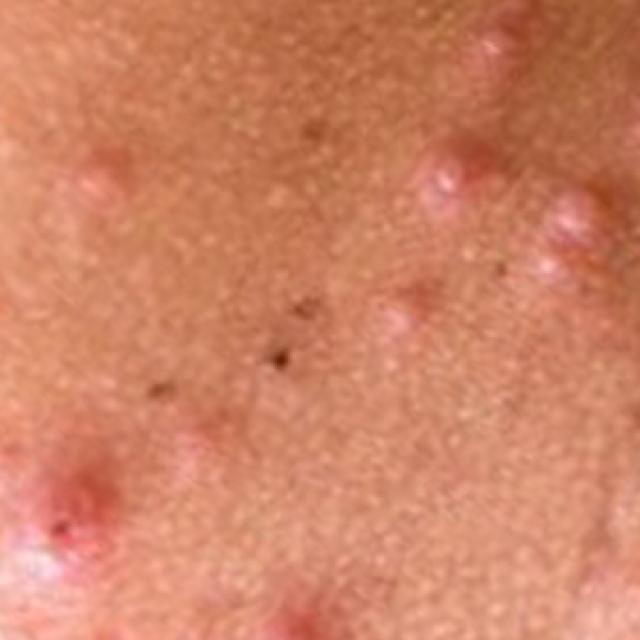acne: (130, 344, 258, 499), (0, 452, 115, 612), (514, 160, 627, 312), (412, 132, 502, 226), (456, 12, 550, 100), (369, 256, 452, 354)
